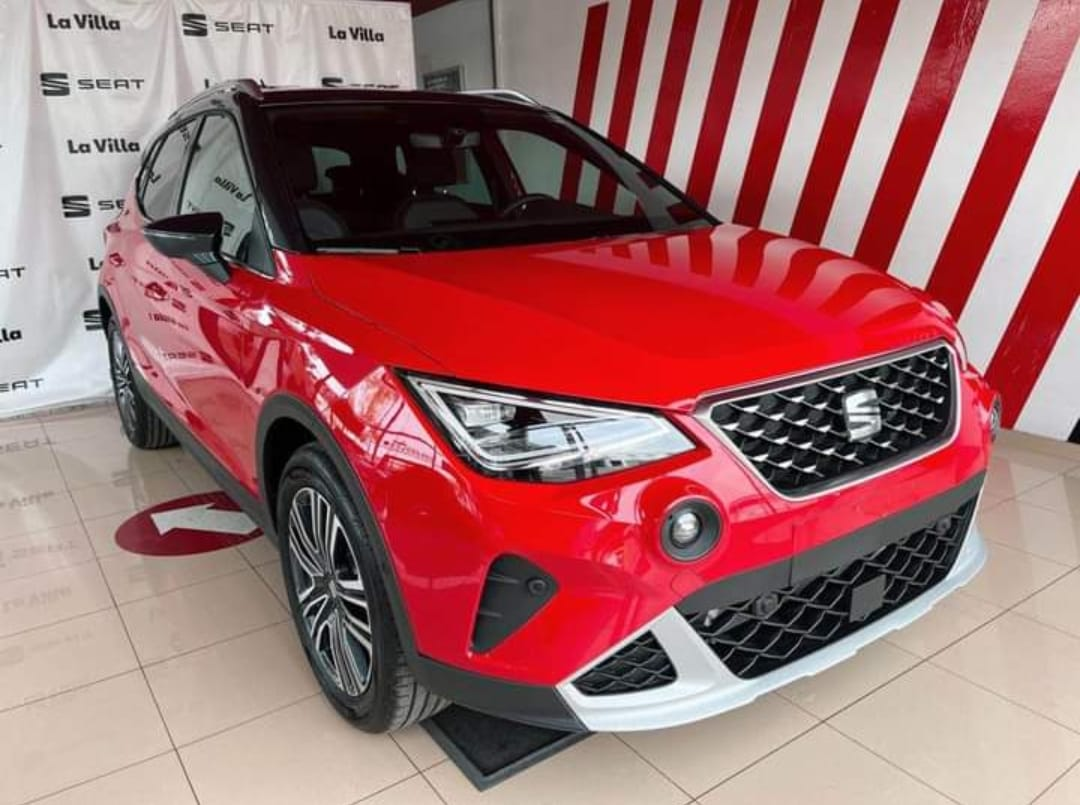Auto: (94, 82, 996, 741)
